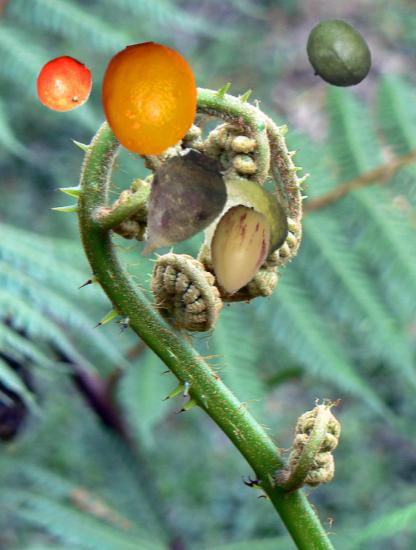Beetroot: (120, 147, 243, 270)
Clementine: (35, 54, 95, 114)
Lemon: (93, 43, 208, 158)
Limes: (199, 177, 290, 268)
Mango: (301, 17, 375, 91)
Pepino: (195, 205, 284, 294)
